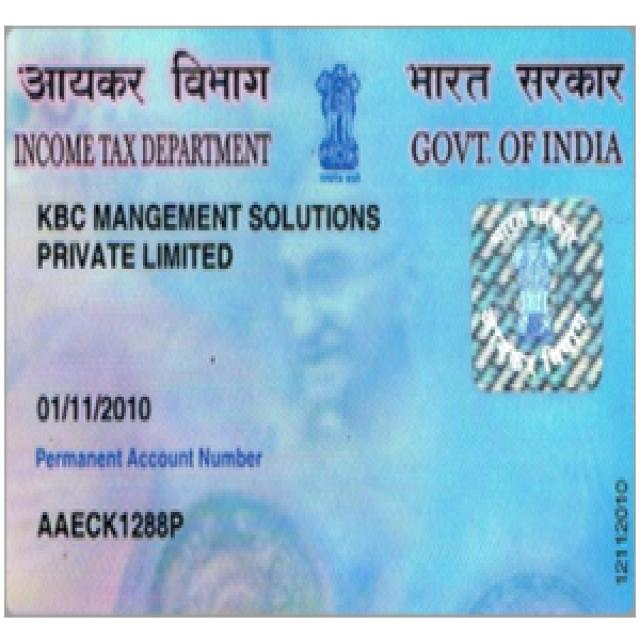pan_card: (6, 30, 635, 613)
